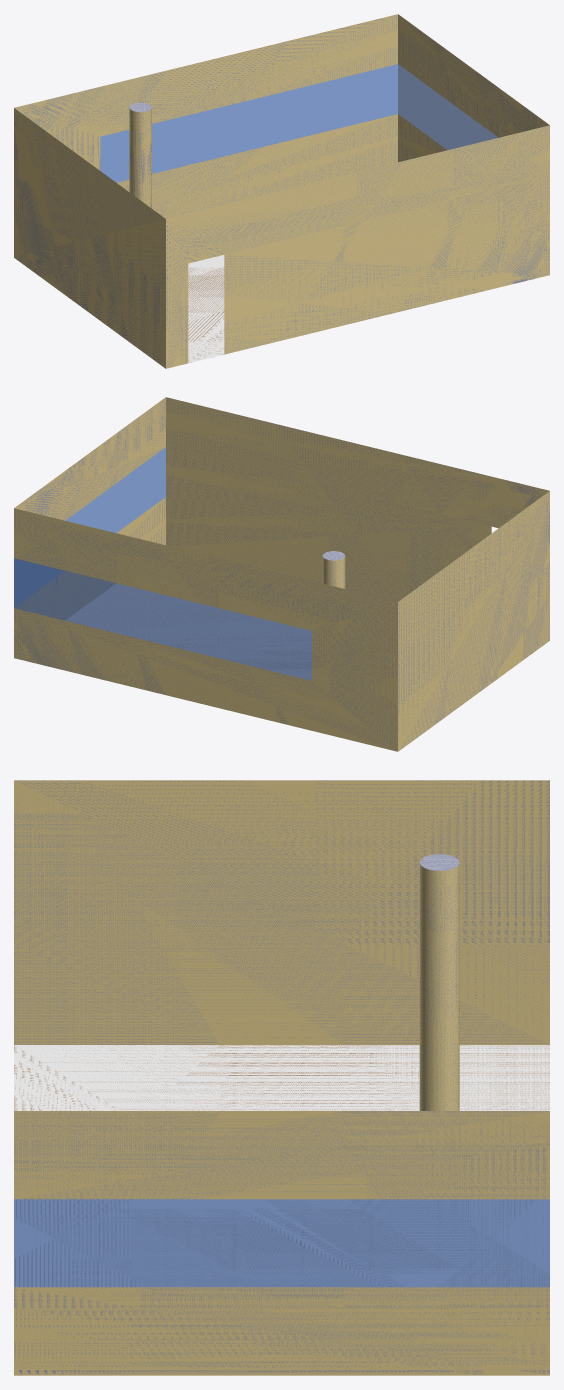
The model's file is LAB007.obj.
3 views of the same model, one above another, from view 1: azimuth 30°, elevation 25°; view 2: azimuth 150°, elevation 25°; view 3: azimuth 270°, elevation 25° (orthographic). The views are drawn at different scales.
Parts seen in each view (by area): view 1: Mesh4 LAB007 Model, Mesh1 Group1 LAB007 Model; view 2: Mesh4 LAB007 Model, Mesh1 Group1 LAB007 Model; view 3: Mesh4 LAB007 Model, Mesh1 Group1 LAB007 Model.
Part boxes in pixels (x1,y1,x2,y2): Mesh4 LAB007 Model: (14,14,549,368); Mesh1 Group1 LAB007 Model: (129,102,151,208); Mesh4 LAB007 Model: (14,397,549,751); Mesh1 Group1 LAB007 Model: (322,551,345,588); Mesh4 LAB007 Model: (14,780,549,1375); Mesh1 Group1 LAB007 Model: (419,854,459,1110).
Bounding box in the file's own units: 8.09 × 3.02 × 5.54.
6 materials, 2 textured.
